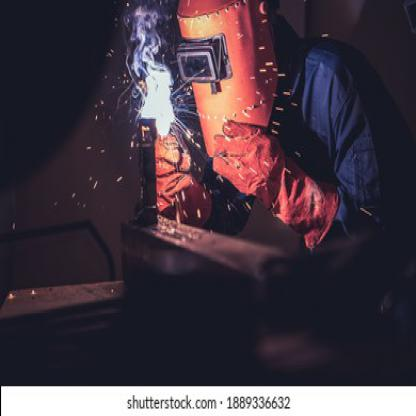with_gloves: (212, 121, 341, 256), (154, 138, 213, 233)
